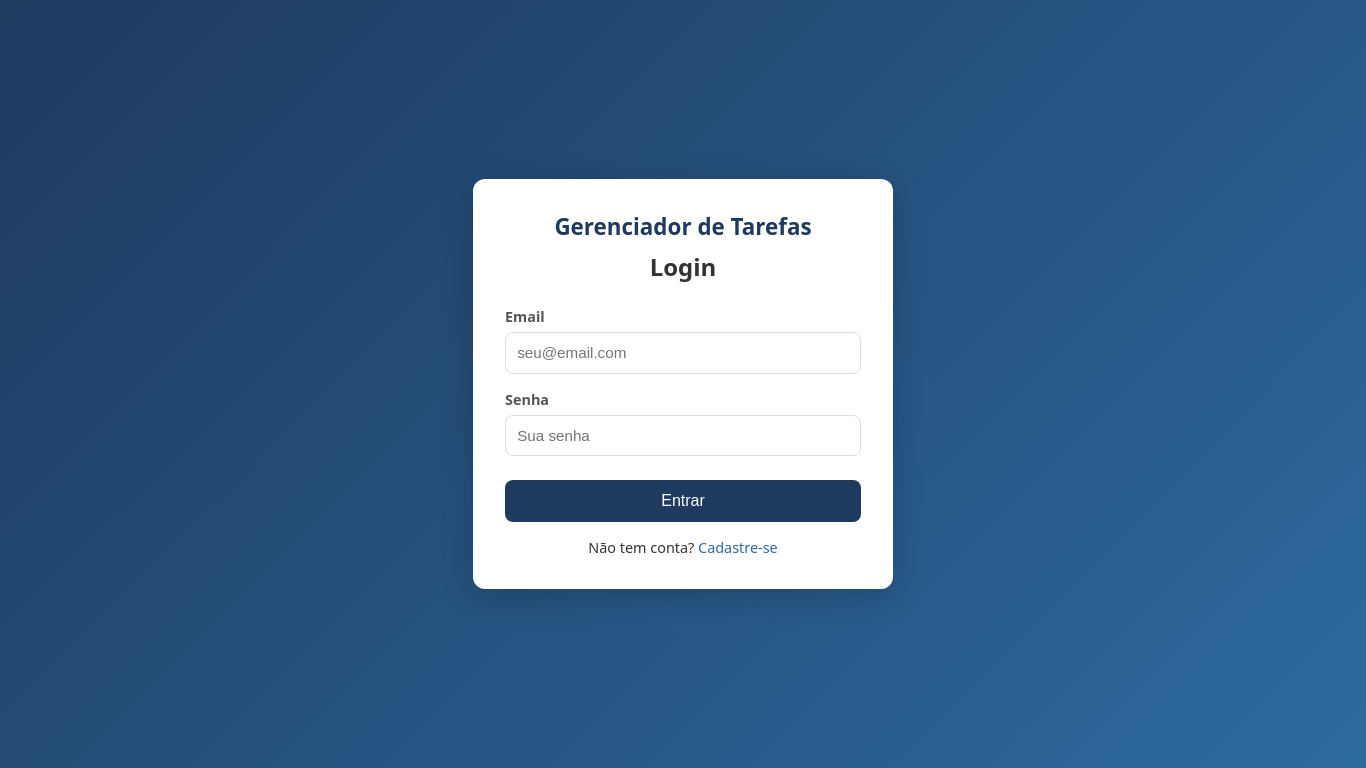
Test: Autenticação › não deve fazer login com senha errada
The width and height of the screenshot is (1366, 768).
Type "cypress@teste.com" into the field with placeholder "seu@email.com".
click(683, 353); type("cypress@teste.com")  # box [505, 332, 861, 373]
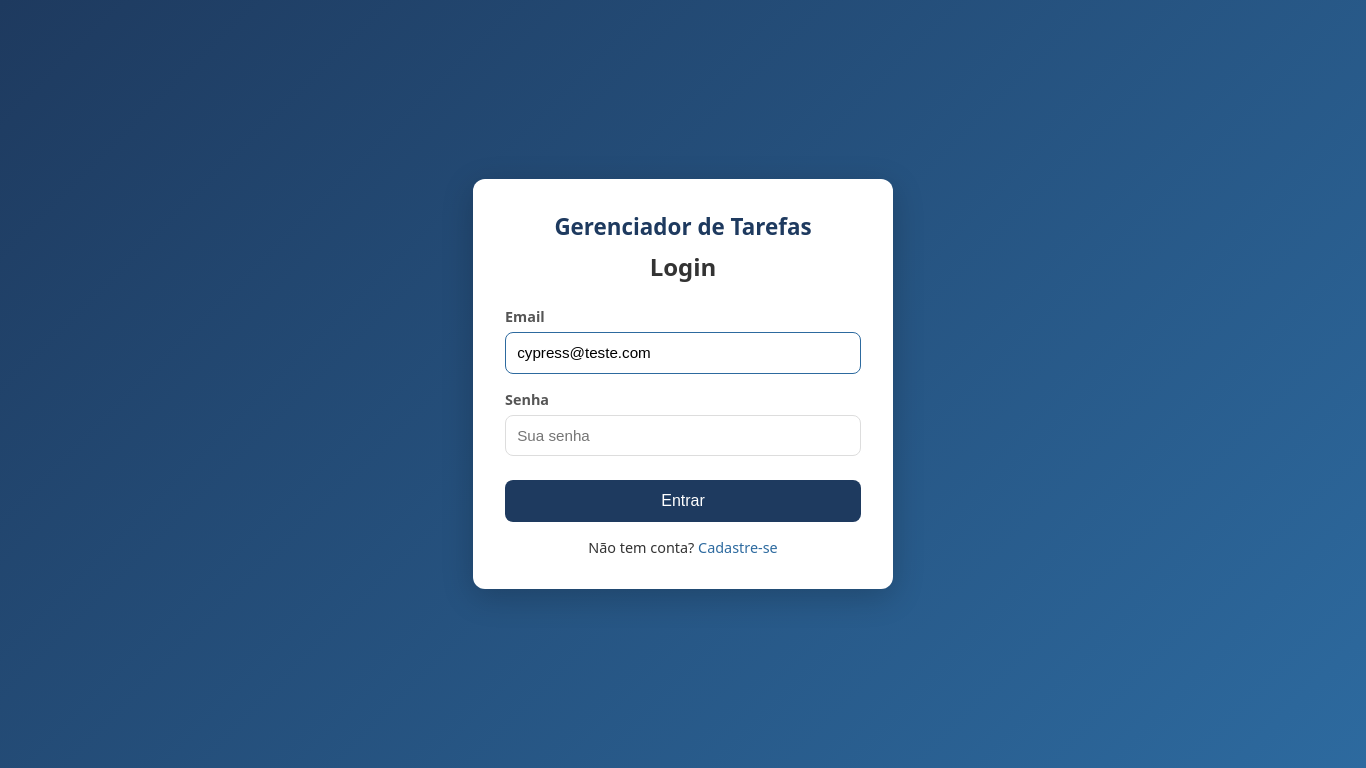
Type "SenhaErrada123" into the password field with placeholder "Sua senha".
click(683, 436); type("SenhaErrada123")  # box [505, 415, 861, 456]
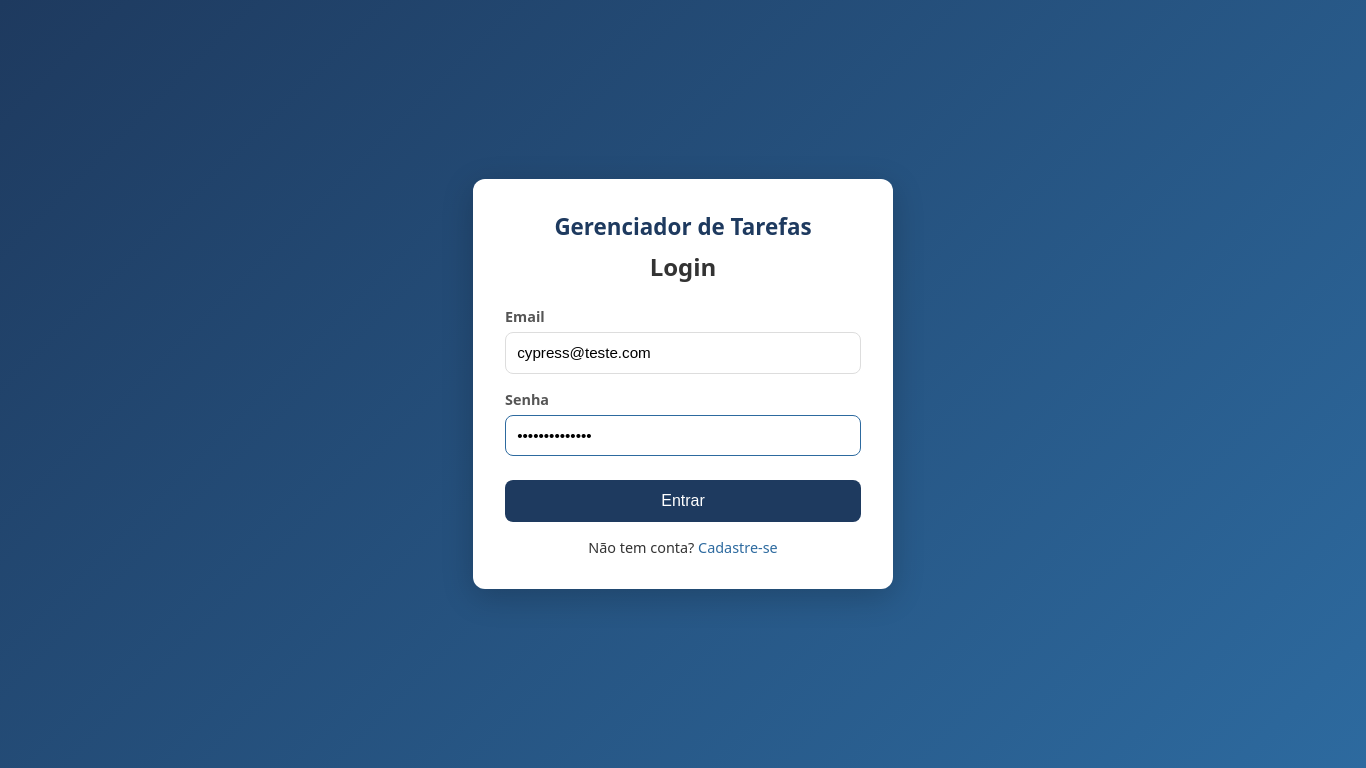
Click the submit button.
click(683, 501)  # box [505, 480, 861, 522]
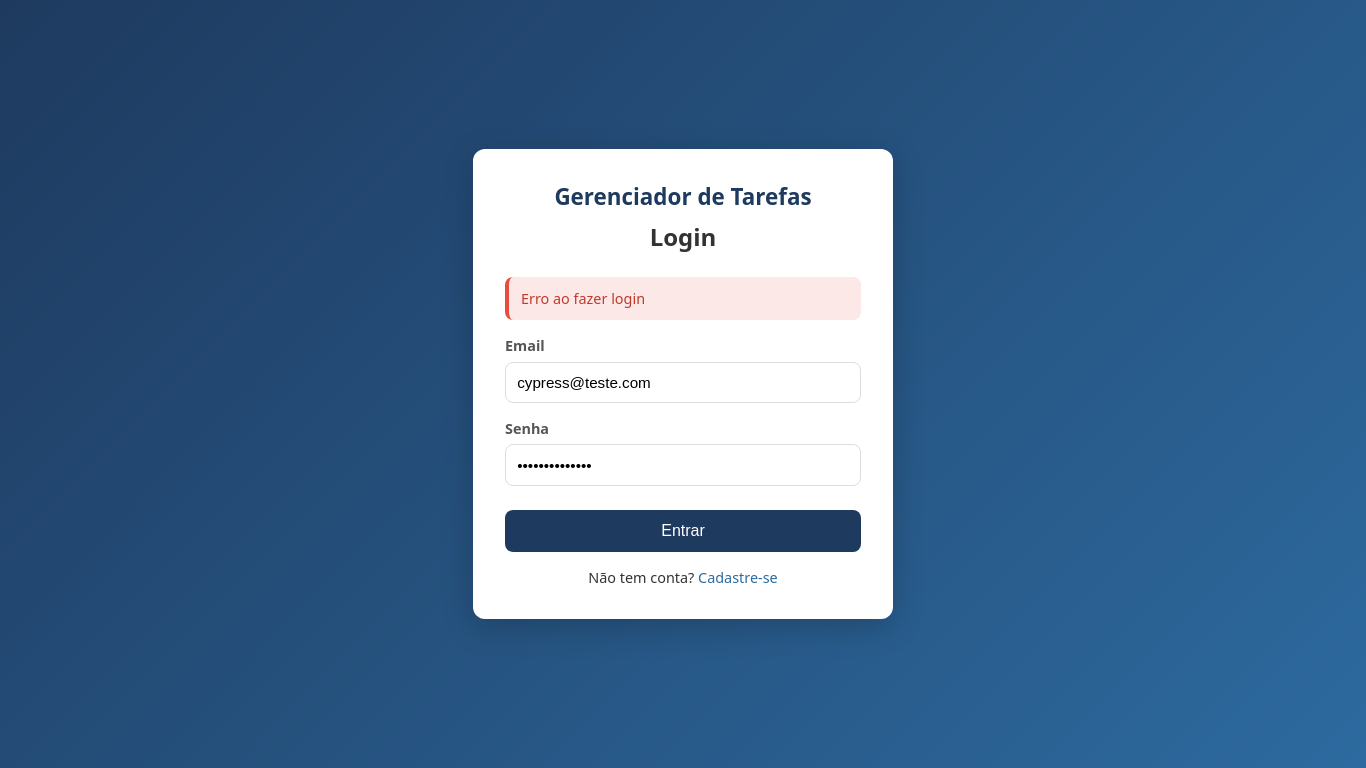
Expected: the text "Erro ao fazer login" is shown, [505, 277, 861, 320]
